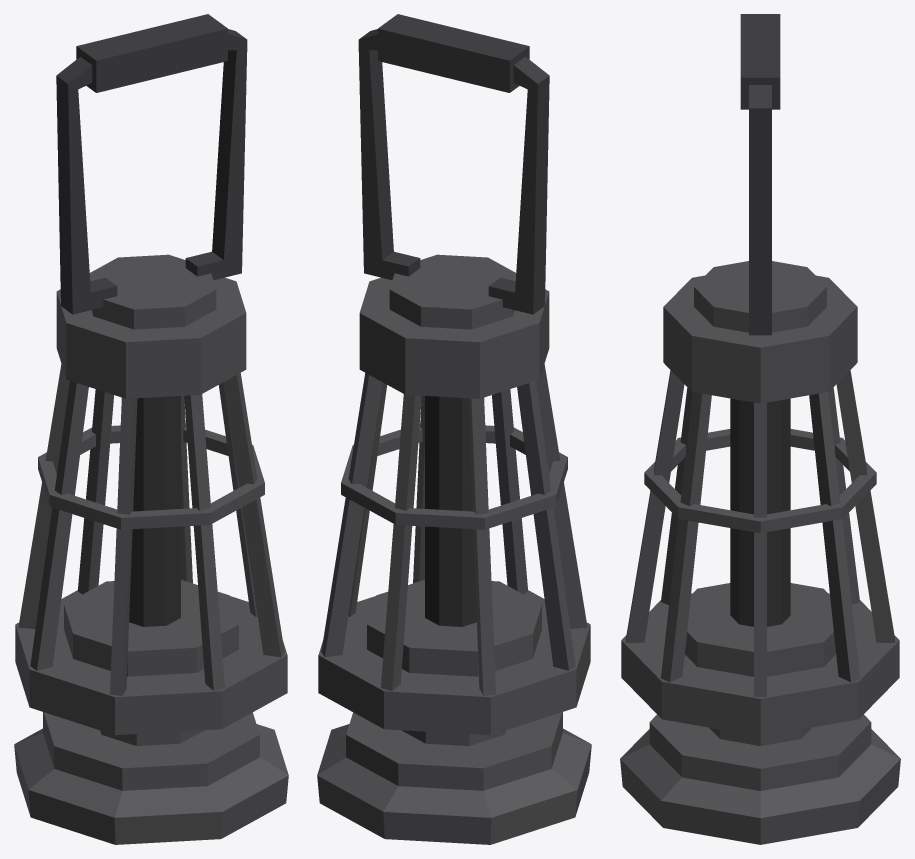
The model's file is SM_Prop_Lantern_02.fbx.glb.
3 renders of one model, left to right at view 1: azimuth 30°, elevation 25°; view 2: azimuth 150°, elevation 25°; view 3: azimuth 270°, elevation 25°, orthographic.
Visible parts, largest first — view 1: node_id4; view 2: node_id4; view 3: node_id4.
Part boxes in pixels (left/top/right/bottom): node_id4: left=14, top=14, right=288, bottom=844; node_id4: left=317, top=14, right=591, bottom=844; node_id4: left=620, top=14, right=900, bottom=844.
Bounding box in the file's own units: 0.1758 × 0.512 × 0.1758.
Materials: 1 (1 with a texture image).
